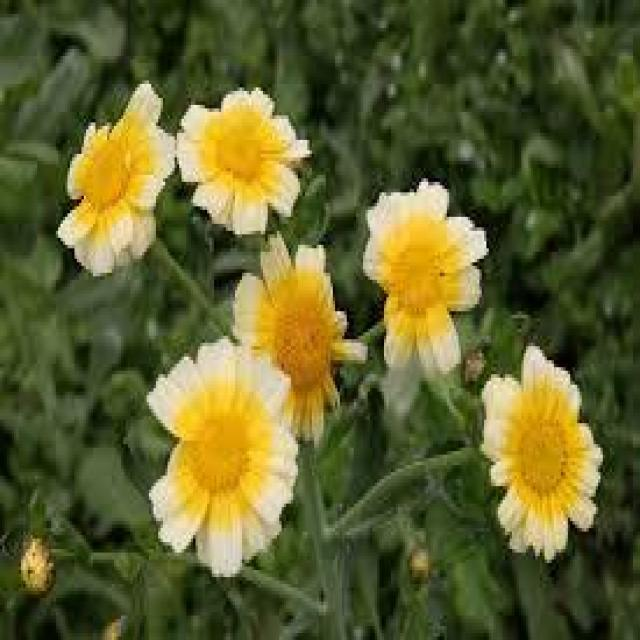organic waste: (137, 318, 298, 574), (224, 227, 358, 444), (470, 346, 605, 560), (156, 75, 323, 243), (51, 88, 179, 284), (360, 184, 485, 372)
